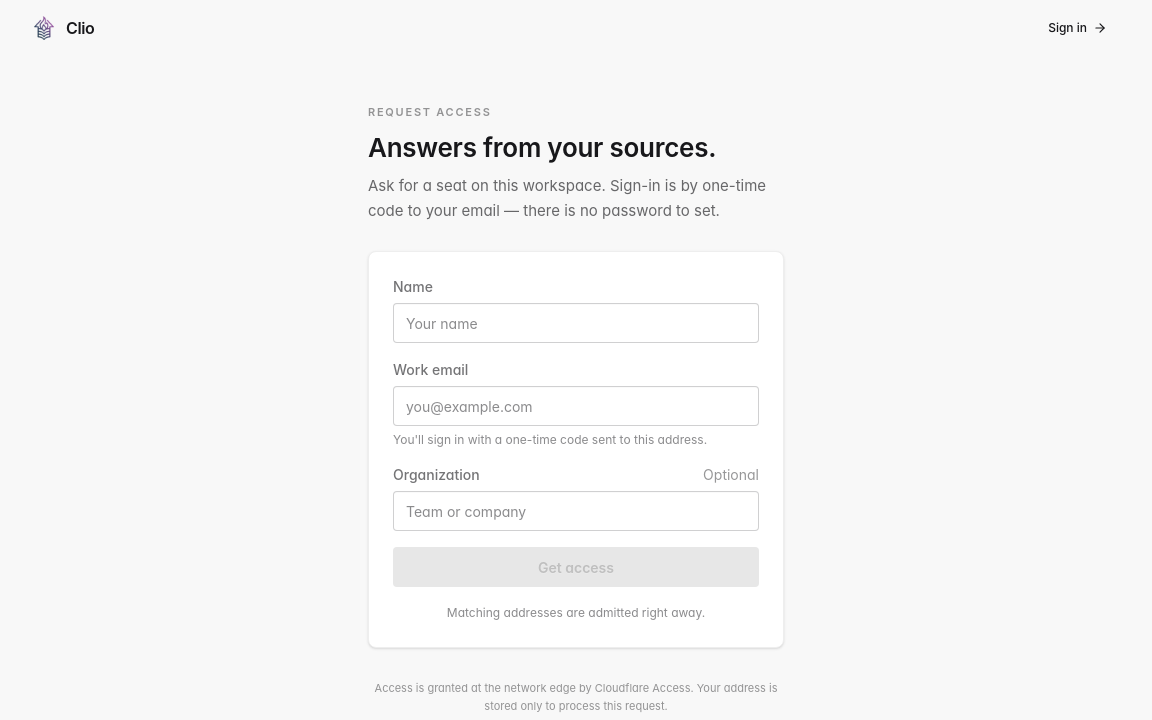
it: RegisterPage › shows a sign-in action when open mode admits immediately
Check: the submit button reads "Get access", box [393,547,759,587]
Type "a@b.co" into the field with id "reg-email". click: (576, 406)
box: [393,386,759,426]
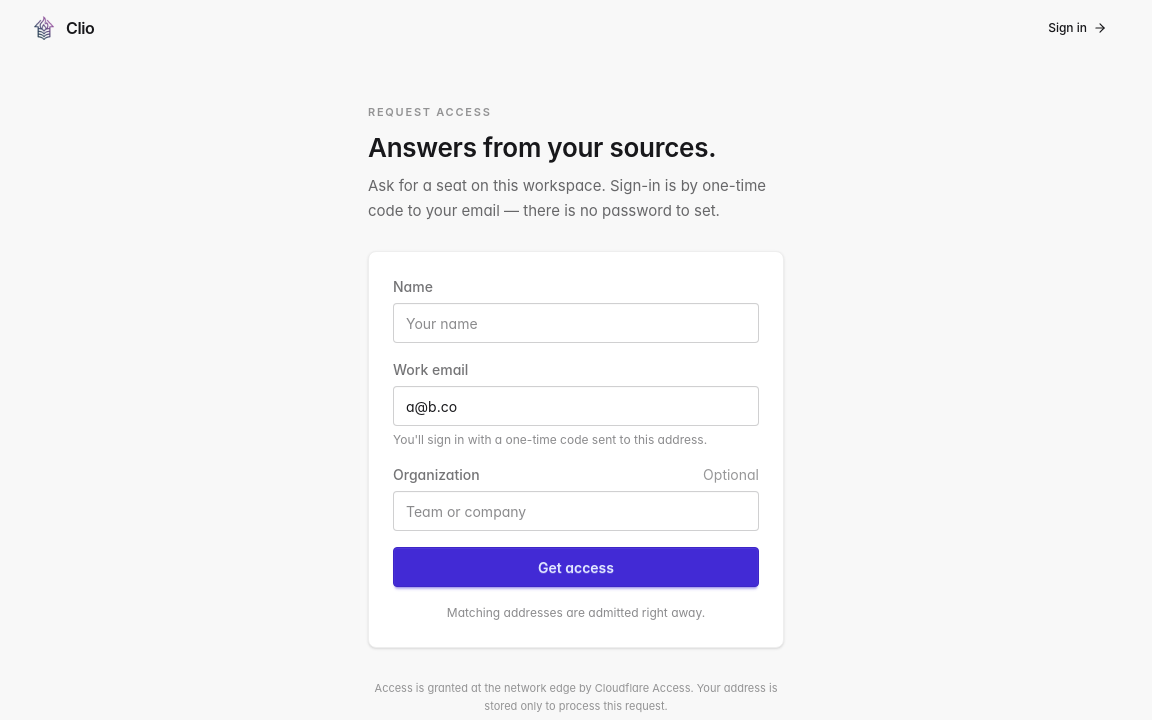
Submit the form, box [368,251,784,648]
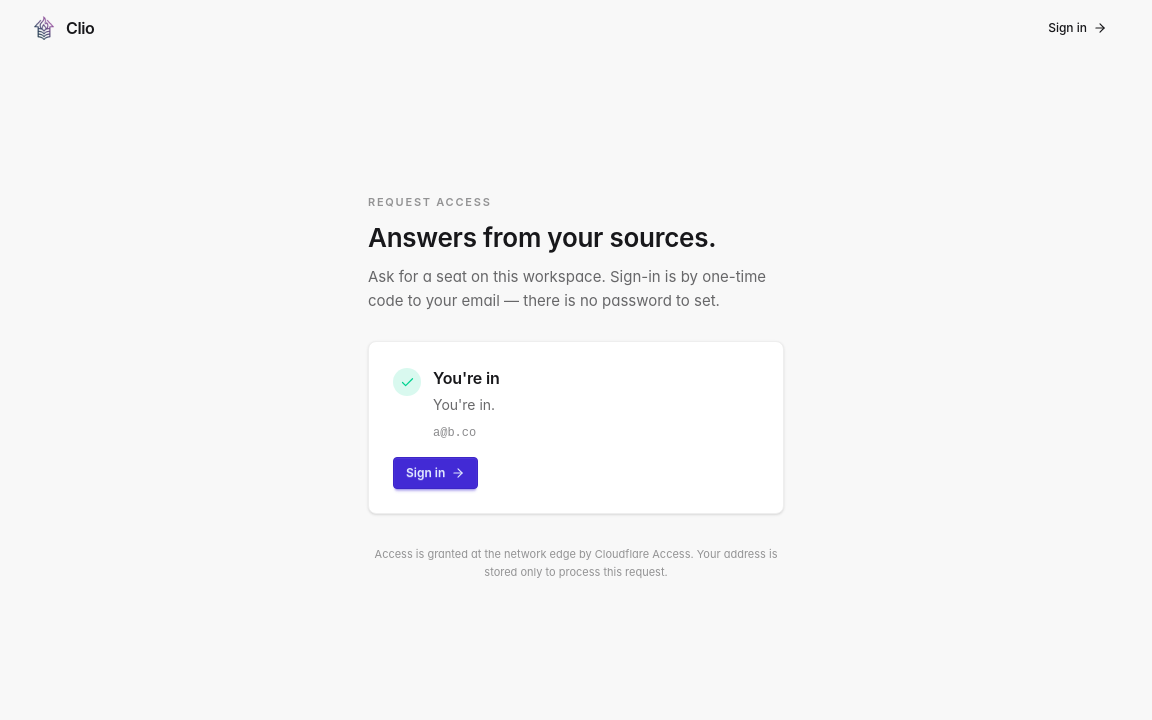
Check: the link to "/" is shown, box [393,457,478,489]
Check: the text "You're in" is shown, box [433,366,500,390]
